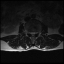CCS_stenosis: (32, 29, 33, 38)
LFS_stenosis: (35, 29, 37, 35)
LLS_normal: (33, 29, 35, 36)
RFS_stenosis: (28, 29, 30, 35)
RLS_normal: (30, 29, 32, 36)
